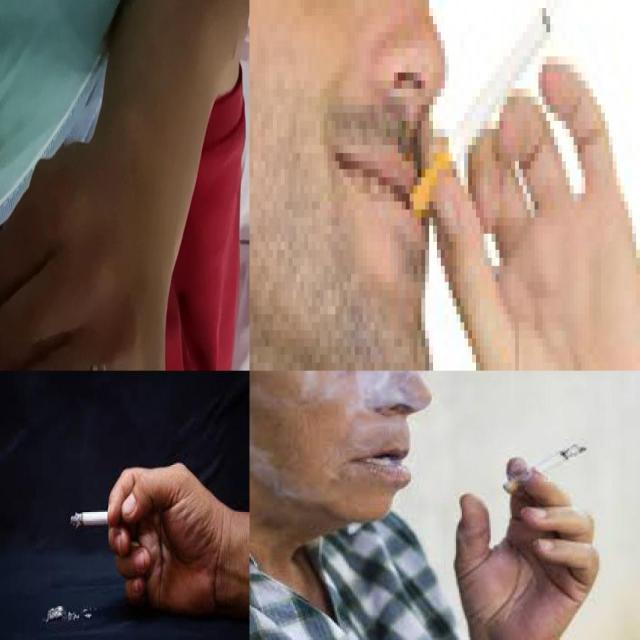smoking: (502, 443, 584, 494), (70, 512, 136, 528)
